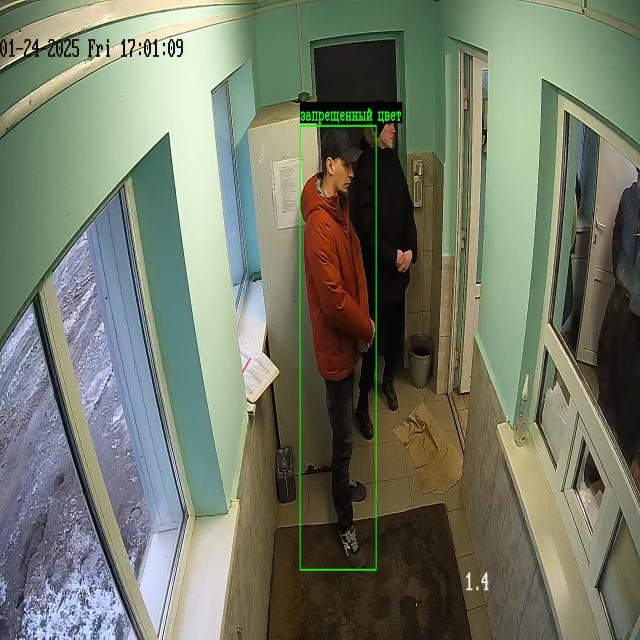Person: (301, 130, 374, 502), (368, 130, 417, 411), (612, 170, 640, 317)
